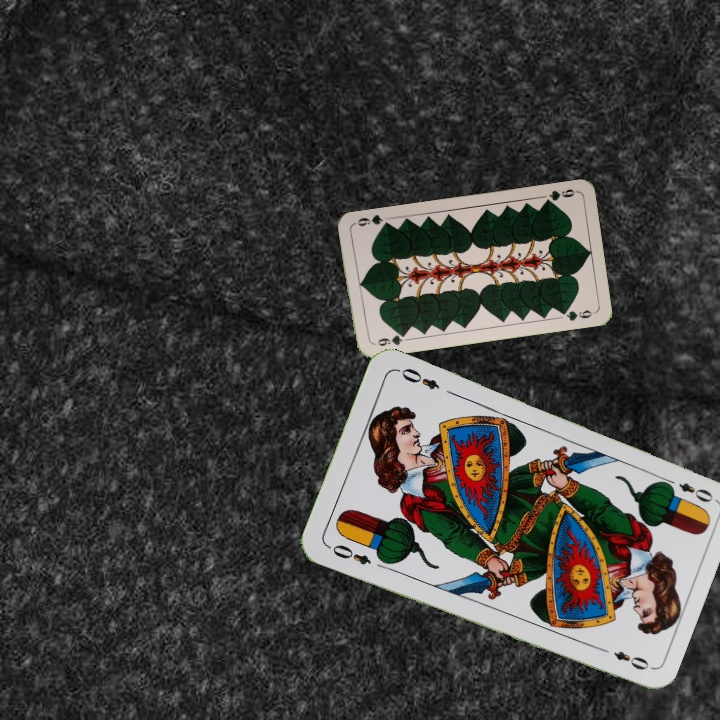EO: (659, 474, 716, 505), (323, 540, 374, 568)
G9: (539, 185, 579, 207), (369, 329, 409, 348)
